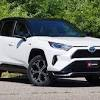Toyota: (1, 17, 100, 74)
